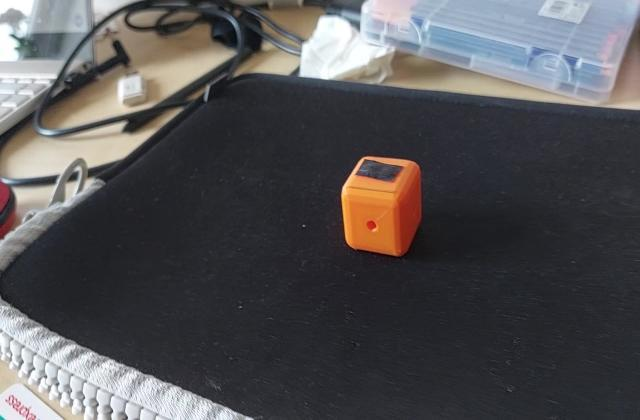black: (358, 158, 408, 186)
cube: (338, 154, 426, 260)
